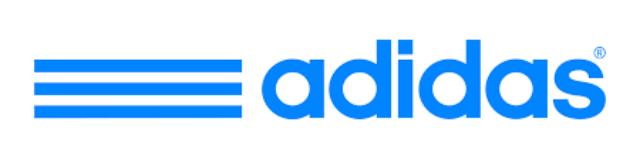Adidas: (255, 28, 615, 134)
